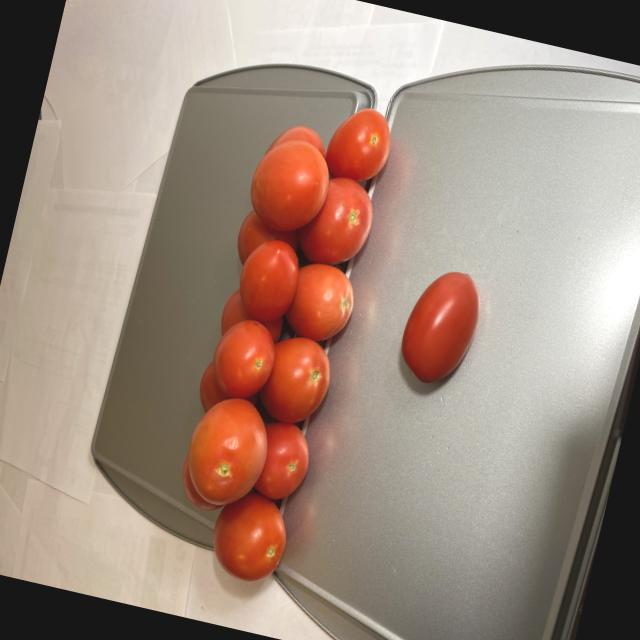tomato: (158, 76, 398, 593), (390, 259, 490, 397)
